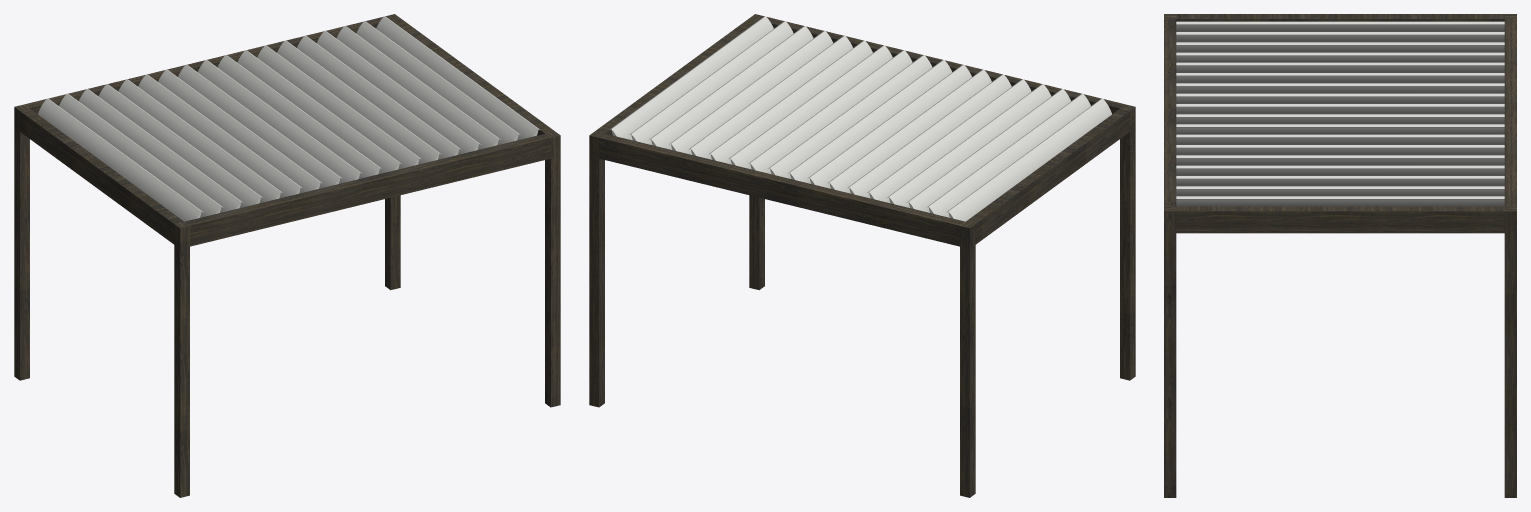
Rendered from psr_dokuritu-2k9s_blackebony.fbx.
The picture shows the model from 3 angles, left to right: view 1: azimuth 30°, elevation 25°; view 2: azimuth 150°, elevation 25°; view 3: azimuth 270°, elevation 25°; orthographic projection. The views are drawn at different scales.
Visible parts, largest first — view 1: psr_dokuritu-2k9s_blackebony; view 2: psr_dokuritu-2k9s_blackebony; view 3: psr_dokuritu-2k9s_blackebony.
Boxes of the visible parts, left/top/right/bottom form: psr_dokuritu-2k9s_blackebony: left=14, top=14, right=560, bottom=497; psr_dokuritu-2k9s_blackebony: left=589, top=14, right=1135, bottom=497; psr_dokuritu-2k9s_blackebony: left=1164, top=14, right=1516, bottom=497.
Bounding box in the file's own units: 384 × 266 × 290.
Materials: 2 (1 with a texture image).
